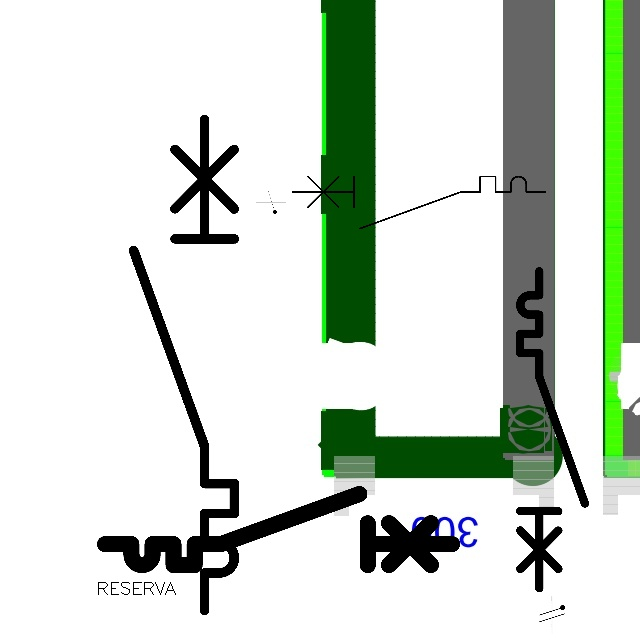interruptor_termomagnetico: (121, 107, 247, 623), (96, 485, 461, 574), (512, 263, 593, 596), (286, 170, 552, 235)
